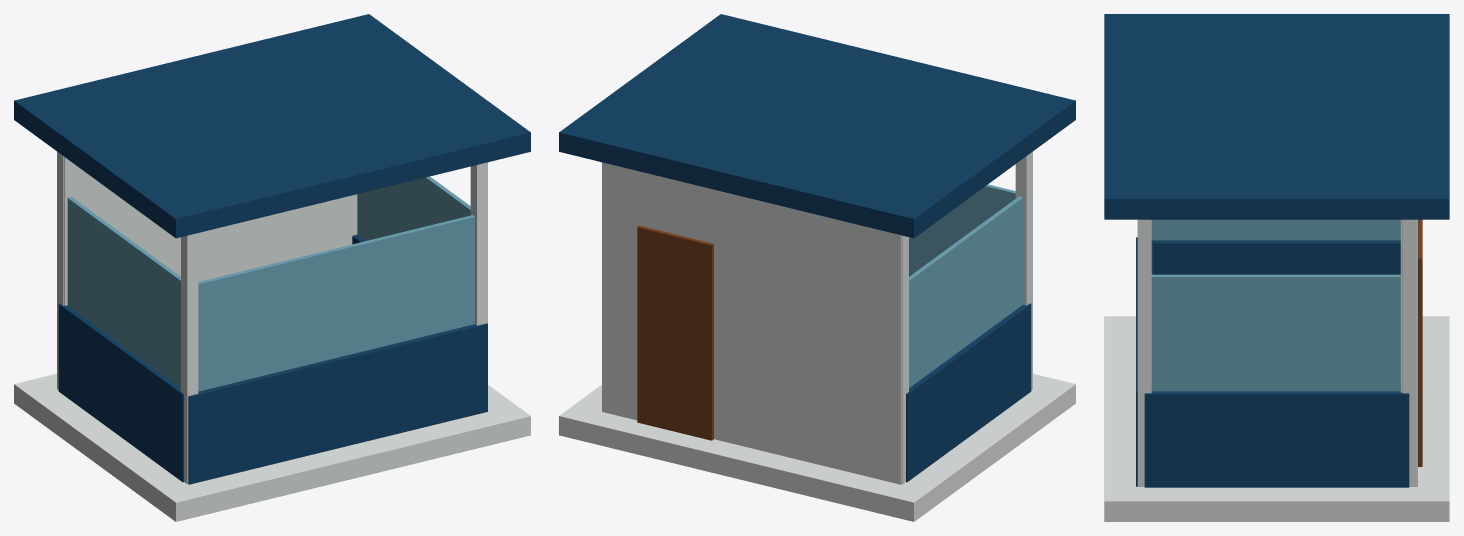
The picture shows the model from 3 angles, left to right: view 1: azimuth 30°, elevation 25°; view 2: azimuth 150°, elevation 25°; view 3: azimuth 270°, elevation 25°; orthographic projection. The views are drawn at different scales.
Visible parts, largest first — view 1: CANOPY, WINDOW_Front, WALL_Sill, FOUNDATION, WINDOW_Side, WALL_Back, WALL_Side, WINDOW_Side.001, WALL_Column, WALL_Column.002, WALL_Column.001; view 2: CANOPY, WALL_Back, FOUNDATION, DOOR_Panel, WINDOW_Side, WALL_Side, WINDOW_Front, WALL_Column, WALL_Column.001; view 3: CANOPY, WINDOW_Side.001, WALL_Side.001, FOUNDATION, WALL_Side, WINDOW_Side, WALL_Column.002, WALL_Column.003, DOOR_Panel, WALL_Back, WALL_Sill.
Boxes of the visible parts, bbox=[...] form: CANOPY: bbox=[14, 14, 530, 238]; WINDOW_Front: bbox=[198, 215, 474, 391]; WALL_Sill: bbox=[188, 323, 487, 484]; FOUNDATION: bbox=[14, 373, 530, 521]; WINDOW_Side: bbox=[67, 197, 180, 387]; WALL_Back: bbox=[64, 157, 357, 305]; WALL_Side: bbox=[58, 303, 183, 482]; WINDOW_Side.001: bbox=[357, 176, 470, 240]; WALL_Column: bbox=[181, 233, 198, 484]; WALL_Column.002: bbox=[470, 162, 487, 325]; WALL_Column.001: bbox=[57, 151, 64, 389]; CANOPY: bbox=[559, 14, 1075, 238]; WALL_Back: bbox=[602, 162, 901, 484]; FOUNDATION: bbox=[559, 373, 1075, 521]; DOOR_Panel: bbox=[637, 225, 713, 440]; WINDOW_Side: bbox=[909, 196, 1023, 387]; WALL_Side: bbox=[906, 303, 1031, 482]; WINDOW_Front: bbox=[909, 184, 1015, 275]; WALL_Column: bbox=[1015, 151, 1032, 389]; WALL_Column.001: bbox=[901, 235, 908, 484]; CANOPY: bbox=[1104, 14, 1449, 219]; WINDOW_Side.001: bbox=[1151, 274, 1400, 391]; WALL_Side.001: bbox=[1144, 391, 1409, 487]; FOUNDATION: bbox=[1104, 316, 1449, 521]; WALL_Side: bbox=[1151, 240, 1400, 274]; WINDOW_Side: bbox=[1151, 219, 1400, 240]; WALL_Column.002: bbox=[1137, 219, 1151, 486]; WALL_Column.003: bbox=[1402, 219, 1416, 486]; DOOR_Panel: bbox=[1418, 219, 1422, 466]; WALL_Back: bbox=[1400, 219, 1417, 486]; WALL_Sill: bbox=[1136, 237, 1153, 486].
Bounding box in the file's own units: 3.8 × 3.1 × 3.
